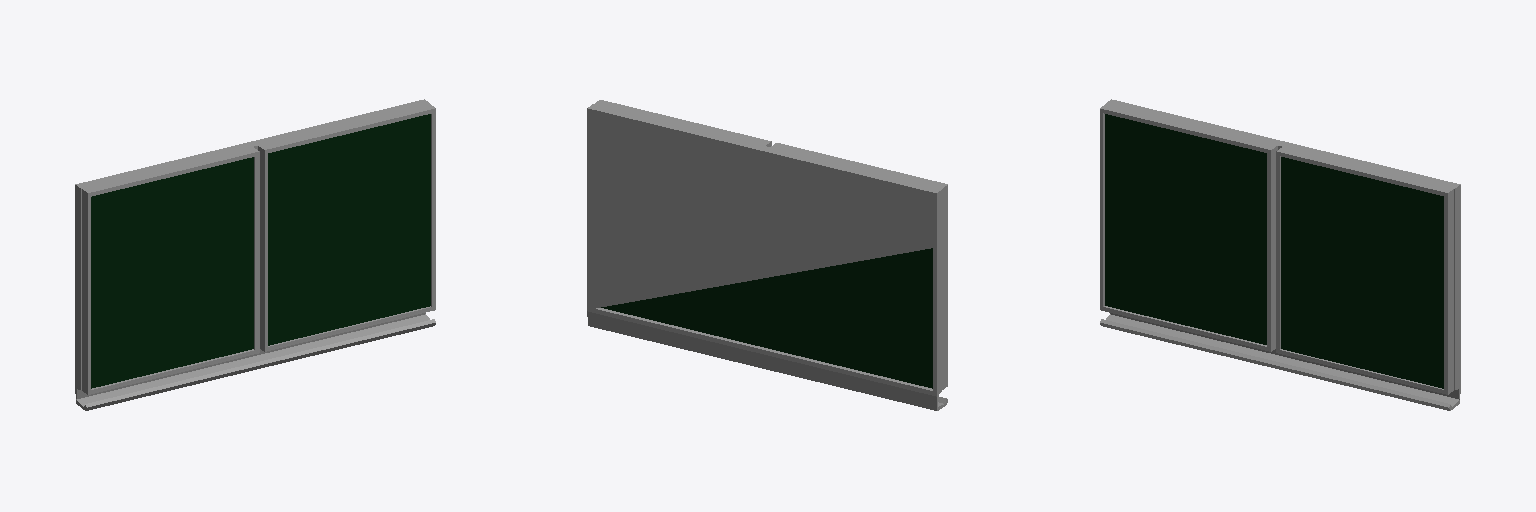
File: blackboard_gesloten.obj
The picture shows the model from 3 angles: view 1: azimuth 30°, elevation 25°; view 2: azimuth 150°, elevation 25°; view 3: azimuth 330°, elevation 25°; orthographic projection.
Parts seen in each view (by area): view 1: zijbord_rechts.000_Cube.009, zijbord_rechts.001_Cube.008, rand.001_Cube.003, zijbord_rechts_rand.001_Cube.007, zijbord_rechts_rand.000_Cube.005; view 2: rand.001_Cube.003, bord_Cube, zijbord_rechts_rand.001_Cube.007, zijbord_rechts_rand.000_Cube.005; view 3: zijbord_rechts.000_Cube.009, zijbord_rechts.001_Cube.008, rand.001_Cube.003, zijbord_rechts_rand.000_Cube.005, zijbord_rechts_rand.001_Cube.007.
Part boxes in pixels (bbox=[...]): zijbord_rechts.000_Cube.009: bbox=[268, 114, 430, 345]; zijbord_rechts.001_Cube.008: bbox=[91, 157, 253, 388]; rand.001_Cube.003: bbox=[75, 99, 435, 410]; zijbord_rechts_rand.001_Cube.007: bbox=[81, 147, 259, 394]; zijbord_rechts_rand.000_Cube.005: bbox=[258, 104, 435, 351]; rand.001_Cube.003: bbox=[587, 104, 947, 410]; bord_Cube: bbox=[601, 248, 932, 388]; zijbord_rechts_rand.001_Cube.007: bbox=[771, 143, 947, 389]; zijbord_rechts_rand.000_Cube.005: bbox=[594, 100, 771, 146]; zijbord_rechts.000_Cube.009: bbox=[1281, 157, 1443, 388]; zijbord_rechts.001_Cube.008: bbox=[1105, 114, 1266, 344]; rand.001_Cube.003: bbox=[1100, 99, 1460, 410]; zijbord_rechts_rand.000_Cube.005: bbox=[1276, 147, 1453, 394]; zijbord_rechts_rand.001_Cube.007: bbox=[1100, 104, 1277, 351].
Bounding box in the file's own units: 4.27 × 2.56 × 0.2592.